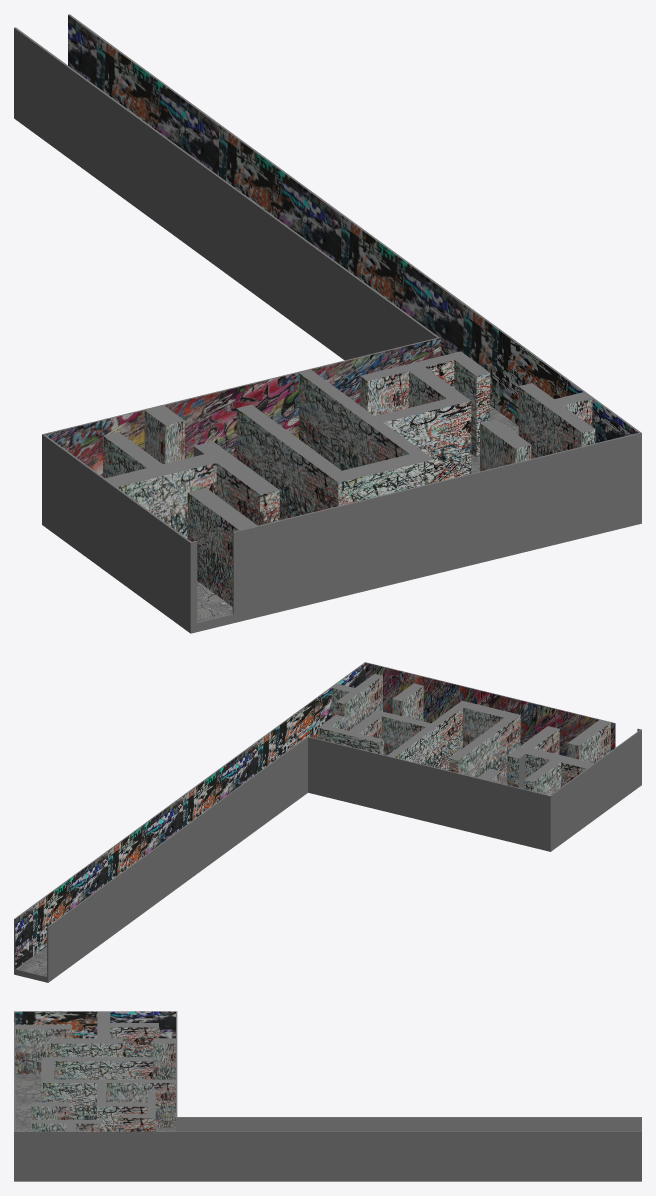
Rendered from Lab1.fbx.
The picture shows the model from 3 angles, top to bottom: view 1: azimuth 30°, elevation 25°; view 2: azimuth 150°, elevation 25°; view 3: azimuth 270°, elevation 25°; orthographic projection. The views are drawn at different scales.
Parts seen in each view (by area): view 1: ParedExterior2, ParedExterior6, ParedExterior1, paredExterior4, ParedExterior3, Pared13, Pared12, Box001, Pared7, Pared1, Pared4, Pared16 (+8 smaller); view 2: ParedExterior2, ParedExterior3, ParedExterior1, ParedExterior6, paredExterior4, Pared13, Pared12, Pared16, Pared2, Pared4, Pared7, Pared14 (+6 smaller); view 3: ParedExterior1, ParedExterior2, Pared12, paredExterior4, Pared13, Pared4, Pared2, Pared3, Box001, Pared5, Pared8, Pared16 (+4 smaller).
Boxes of the visible parts, box(x1,y1,x2,y2) form: ParedExterior2: box(14, 27, 440, 360); ParedExterior6: box(232, 433, 639, 614); ParedExterior1: box(68, 14, 641, 523); paredExterior4: box(42, 434, 191, 633); ParedExterior3: box(43, 338, 438, 476); Pared13: box(236, 404, 353, 520); Pared12: box(298, 370, 433, 485); Box001: box(197, 406, 639, 631); Pared7: box(375, 395, 471, 482); Pared1: box(105, 454, 216, 538); Pared4: box(187, 488, 257, 606); Pared16: box(518, 383, 595, 458); ParedExterior2: box(47, 736, 308, 982); ParedExterior3: box(308, 737, 550, 851); ParedExterior1: box(14, 662, 365, 974); ParedExterior6: box(365, 662, 615, 756); paredExterior4: box(550, 729, 641, 851); Pared13: box(449, 712, 520, 778); Pared12: box(387, 700, 469, 769); Pared16: box(335, 673, 382, 730); Pared2: box(507, 726, 559, 788); Pared4: box(567, 720, 610, 763); Pared7: box(372, 710, 430, 755); Pared14: box(463, 702, 510, 747); ParedExterior1: box(14, 1131, 641, 1181); ParedExterior2: box(176, 1117, 641, 1131); Pared12: box(41, 1079, 175, 1127); paredExterior4: box(15, 1011, 176, 1038); Pared13: box(41, 1057, 152, 1079); Pared4: box(15, 1024, 71, 1074); Pared2: box(49, 1038, 122, 1057); Pared3: box(110, 1023, 159, 1071); Box001: box(15, 1072, 175, 1131); Pared5: box(153, 1038, 175, 1079); Pared8: box(106, 1102, 155, 1131); Pared16: box(31, 1120, 100, 1131).
Size of the model in its own units: 443 by 84.97 by 973.
